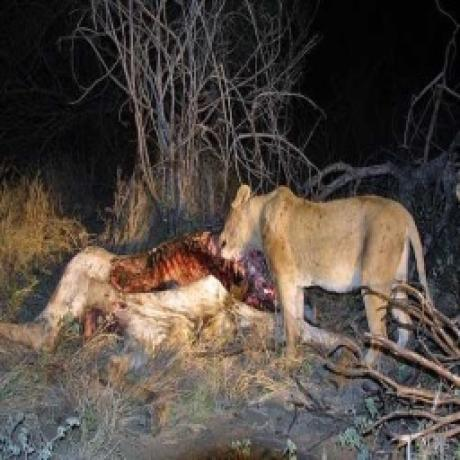Lion: (217, 181, 431, 365)
